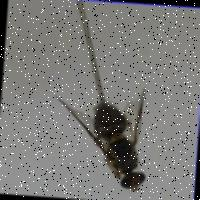Oriental-fruit-fly: (50, 77, 156, 194)
